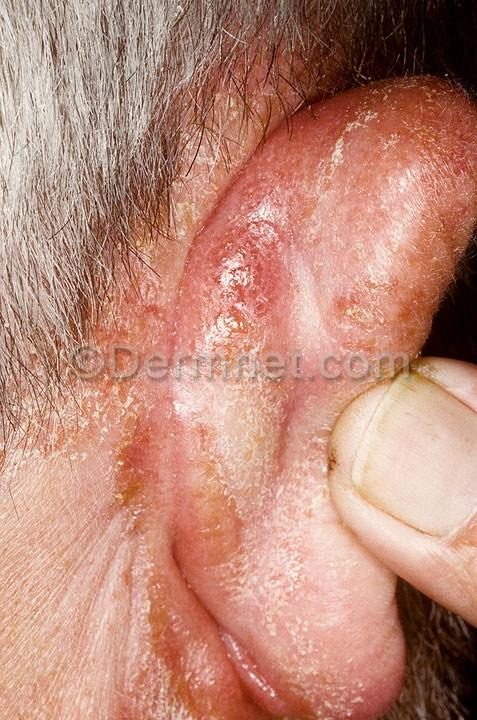Eczema: (105, 386, 354, 646), (99, 159, 339, 342), (333, 94, 477, 308), (103, 651, 370, 720)
